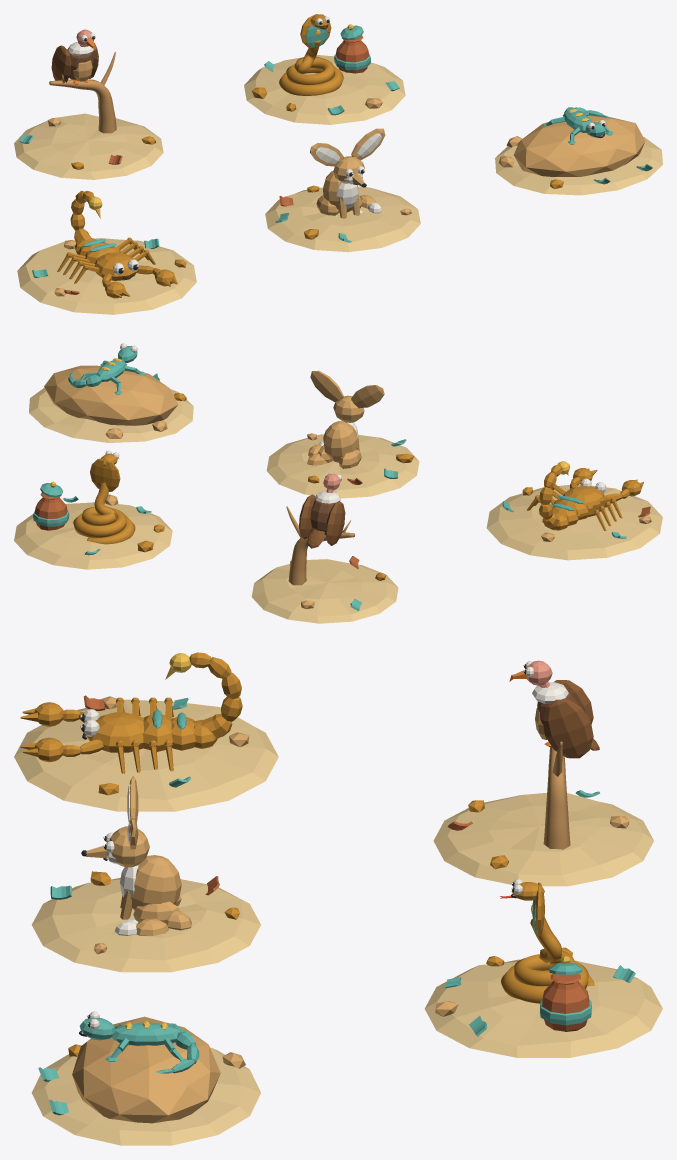
File: desert-animals-set.glb
3 views of the same model, one above another, from view 1: azimuth 30°, elevation 25°; view 2: azimuth 150°, elevation 25°; view 3: azimuth 270°, elevation 25° (orthographic). The views are drawn at different scales.
Parts seen in each view (by area): view 1: Scorpion_Sand, VultureBranch_Sand, FennecFox_Sand, CobraUrn_Sand, LizardRock_Rock, LizardRock_Sand, CobraUrn_Body, VultureBranch_Branch, CobraUrn_Urn, Scorpion_Head, VultureBranch_Wing_L, FennecFox_Body (+1 smaller); view 2: Scorpion_Sand, VultureBranch_Sand, CobraUrn_Sand, FennecFox_Sand, LizardRock_Rock, LizardRock_Sand, CobraUrn_Body, FennecFox_Body, VultureBranch_Branch, CobraUrn_Urn, CobraUrn_Hood, VultureBranch_Wing_L (+6 smaller); view 3: Scorpion_Sand, VultureBranch_Sand, FennecFox_Sand, CobraUrn_Sand, LizardRock_Rock, LizardRock_Sand, CobraUrn_Body, VultureBranch_Wing_R, FennecFox_Body, VultureBranch_Branch, CobraUrn_Urn, Scorpion_Head (+3 smaller).
Part boxes in pixels (x1=…): Scorpion_Sand: x1=17, y1=238, x2=196, y2=314; VultureBranch_Sand: x1=14, y1=113, x2=163, y2=179; FennecFox_Sand: x1=265, y1=186, x2=420, y2=252; CobraUrn_Sand: x1=244, y1=55, x2=405, y2=124; LizardRock_Rock: x1=513, y1=115, x2=645, y2=176; LizardRock_Sand: x1=495, y1=136, x2=662, y2=195; CobraUrn_Body: x1=279, y1=40, x2=343, y2=95; VultureBranch_Branch: x1=49, y1=79, x2=116, y2=133; CobraUrn_Urn: x1=336, y1=35, x2=369, y2=73; Scorpion_Head: x1=94, y1=252, x2=137, y2=280; VultureBranch_Wing_L: x1=51, y1=45, x2=71, y2=82; FennecFox_Body: x1=323, y1=171, x2=358, y2=212; Scorpion_Sand: x1=486, y1=484, x2=662, y2=560; VultureBranch_Sand: x1=251, y1=559, x2=398, y2=623; CobraUrn_Sand: x1=14, y1=502, x2=172, y2=569; FennecFox_Sand: x1=266, y1=434, x2=419, y2=498; LizardRock_Rock: x1=44, y1=365, x2=178, y2=425; LizardRock_Sand: x1=29, y1=387, x2=193, y2=442; CobraUrn_Body: x1=73, y1=482, x2=135, y2=544; FennecFox_Body: x1=323, y1=421, x2=358, y2=462; VultureBranch_Branch: x1=288, y1=532, x2=354, y2=585; CobraUrn_Urn: x1=34, y1=492, x2=67, y2=530; CobraUrn_Hood: x1=90, y1=458, x2=120, y2=491; VultureBranch_Wing_L: x1=325, y1=501, x2=345, y2=545; Scorpion_Sand: x1=14, y1=699, x2=278, y2=811; VultureBranch_Sand: x1=433, y1=793, x2=653, y2=886; FennecFox_Sand: x1=32, y1=877, x2=260, y2=972; CobraUrn_Sand: x1=424, y1=959, x2=662, y2=1057; LizardRock_Rock: x1=72, y1=1016, x2=220, y2=1123; LizardRock_Sand: x1=31, y1=1047, x2=260, y2=1145; CobraUrn_Body: x1=501, y1=917, x2=594, y2=1003; VultureBranch_Wing_R: x1=542, y1=699, x2=593, y2=758; FennecFox_Body: x1=130, y1=855, x2=181, y2=910; VultureBranch_Branch: x1=543, y1=747, x2=570, y2=849; CobraUrn_Urn: x1=542, y1=973, x2=589, y2=1031; Scorpion_Head: x1=85, y1=712, x2=144, y2=752.
Size of the model in its own units: 23.75 by 4.38 by 14.7.
